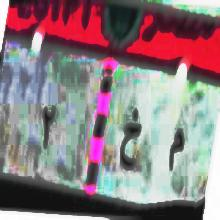2: (38, 90, 62, 153)
khaa: (118, 103, 144, 180)
meem: (164, 116, 190, 188)
